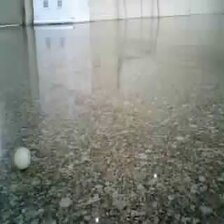w: (11, 144, 33, 170)
